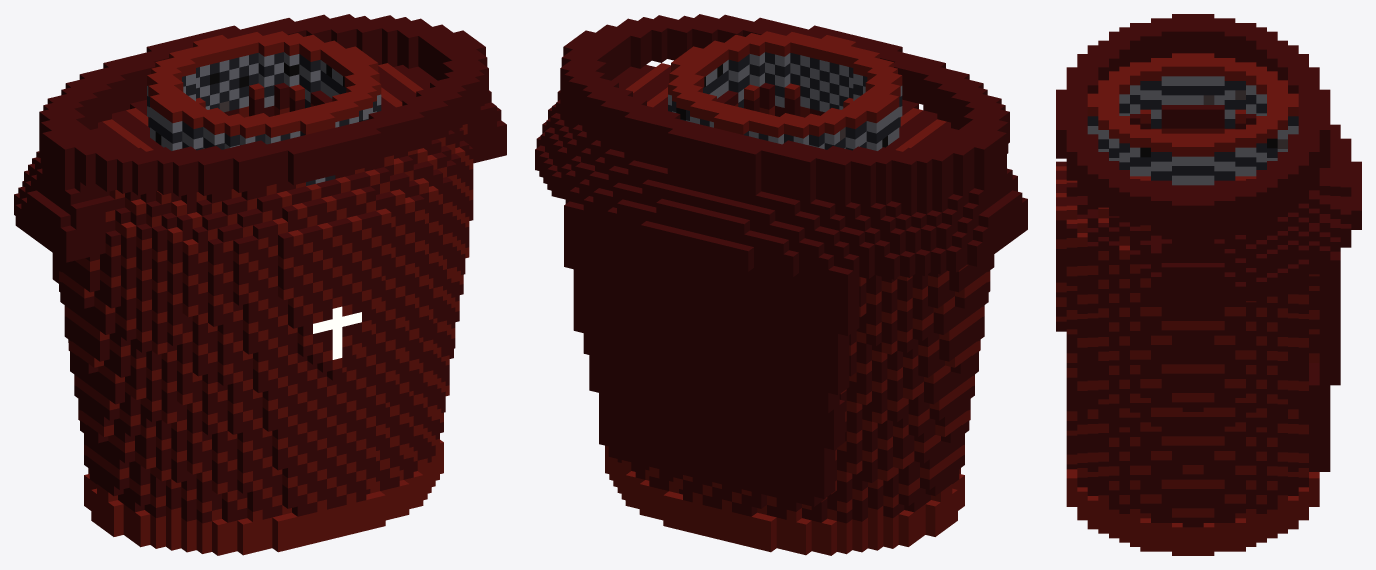
The model's file is chain_masterwork_chest.glb.
3 renders of one model, left to right at view 1: azimuth 30°, elevation 25°; view 2: azimuth 150°, elevation 25°; view 3: azimuth 270°, elevation 25°, orthographic. The views are drawn at different scales.
Visible parts, largest first — view 1: chain_masterwork_chest; view 2: chain_masterwork_chest; view 3: chain_masterwork_chest.
Part boxes in pixels (x1,y1,x2,y2): chain_masterwork_chest: [14, 14, 506, 555]; chain_masterwork_chest: [535, 14, 1027, 555]; chain_masterwork_chest: [1056, 14, 1361, 555].
Bounding box in the file's own units: 0.54 × 0.48 × 0.348.
